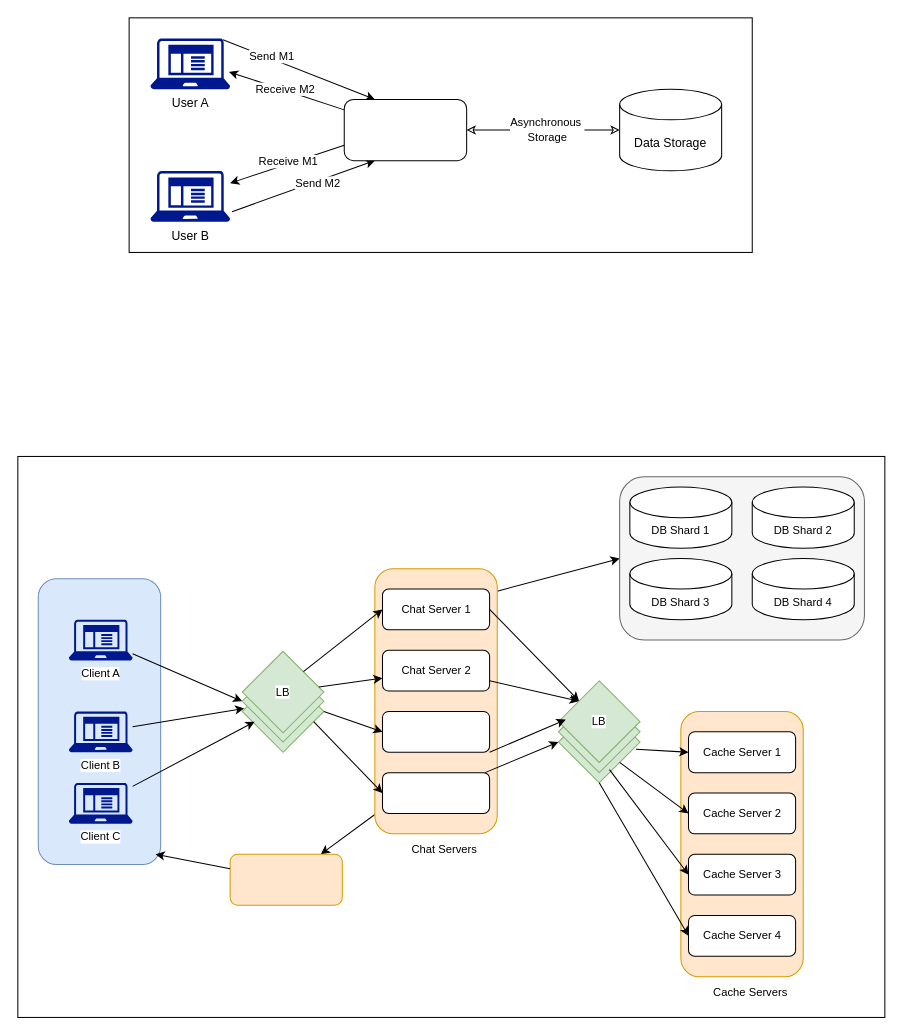
The diagram is 903 pixels wide and 1035 high, and some of its shapes have lost their labels. The box of each missing label's shape, as (x1, y1, x2, y2) in pixels:
Chat Server: (343, 98, 467, 161)
Chat Server 3: (381, 710, 490, 752)
Chat Server 4: (381, 772, 490, 813)
Notification Service: (229, 853, 342, 905)
